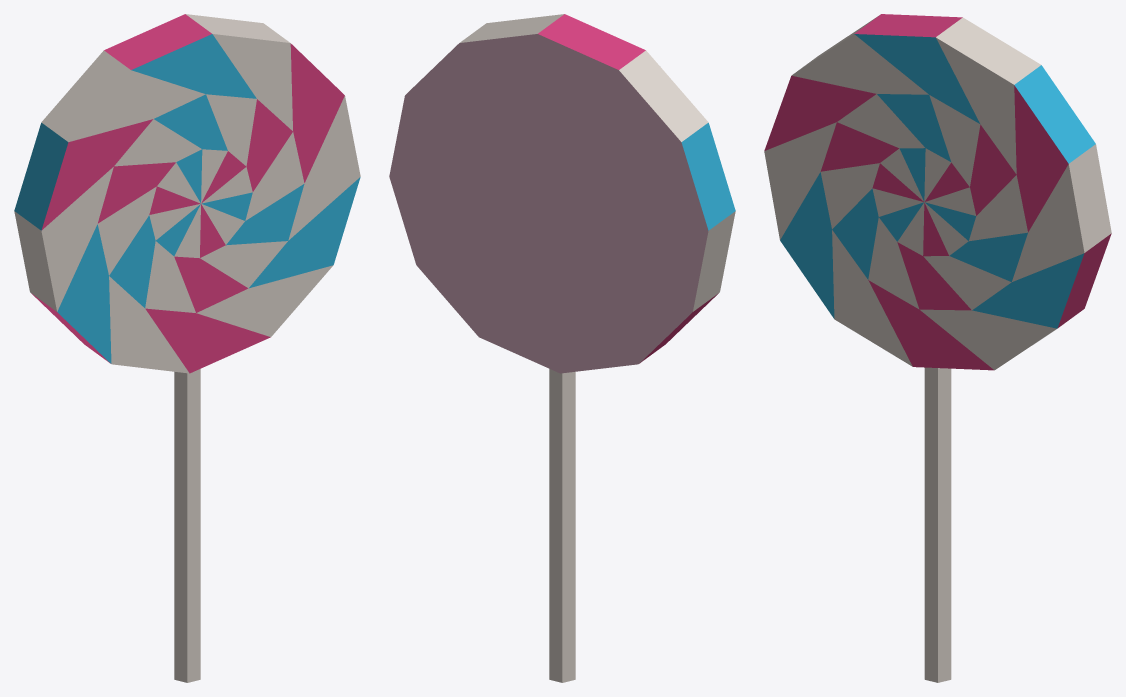
Rendered from swirl_lollipop.glb.
The picture shows the model from 3 angles, left to right: view 1: azimuth 30°, elevation 25°; view 2: azimuth 150°, elevation 25°; view 3: azimuth 330°, elevation 25°; orthographic projection.
Visible parts, largest first — view 1: swirl_lollipop; view 2: swirl_lollipop; view 3: swirl_lollipop.
Boxes of the visible parts, x1,y1,x2,y2 form: swirl_lollipop: [14, 14, 360, 682]; swirl_lollipop: [389, 14, 735, 682]; swirl_lollipop: [764, 14, 1111, 682].
Bounding box in the file's own units: 0.6783 × 1.32 × 0.1.
